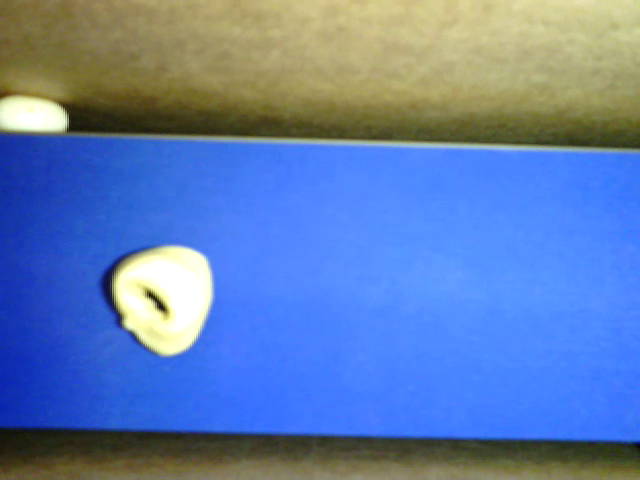tortellini: (111, 245, 215, 358)
